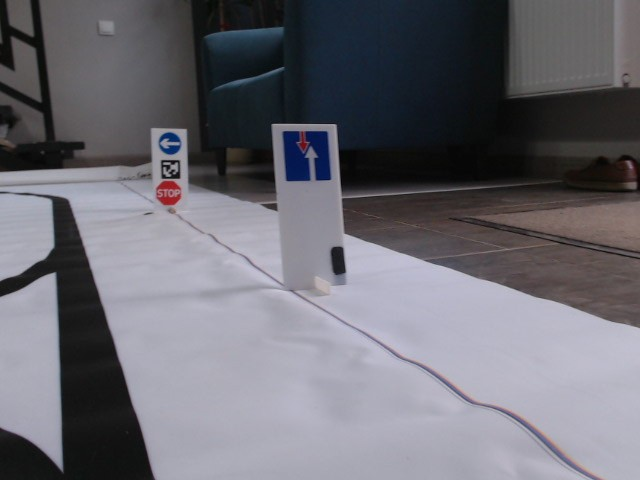Stop: (153, 179, 182, 206)
priority_movement: (281, 129, 333, 183)
